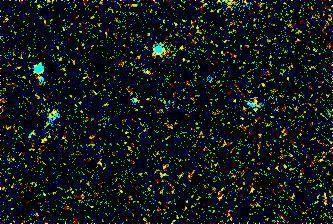star: (133, 56, 163, 86)
